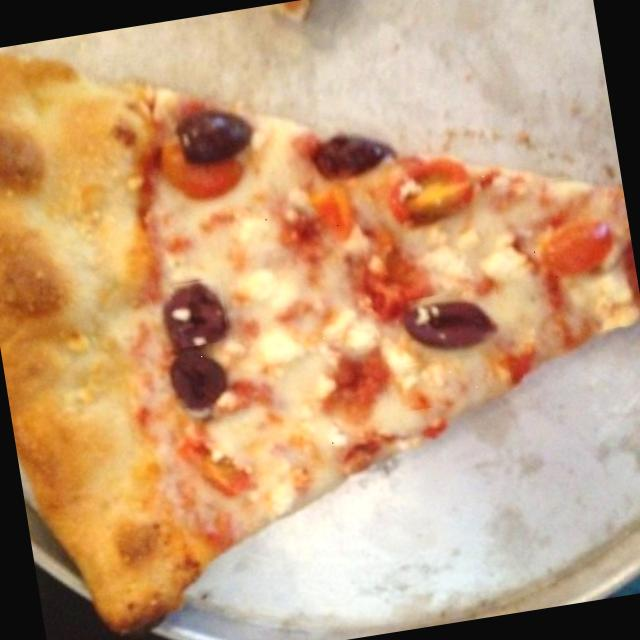Olive: (396, 285, 506, 363), (150, 276, 230, 354), (176, 101, 260, 168), (312, 126, 394, 188), (164, 341, 231, 413)
cheese: (151, 116, 404, 498), (350, 138, 526, 412), (490, 167, 640, 342)
pizza: (0, 53, 640, 630)
